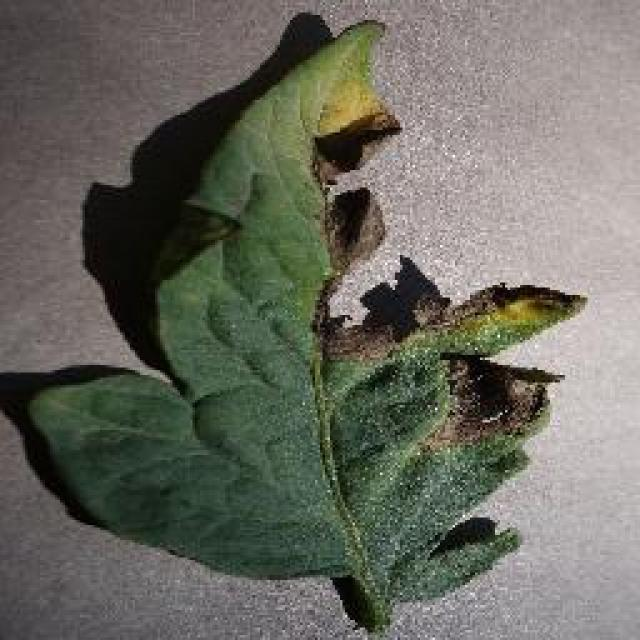Tomato Early blight leaf: (28, 21, 588, 640)
